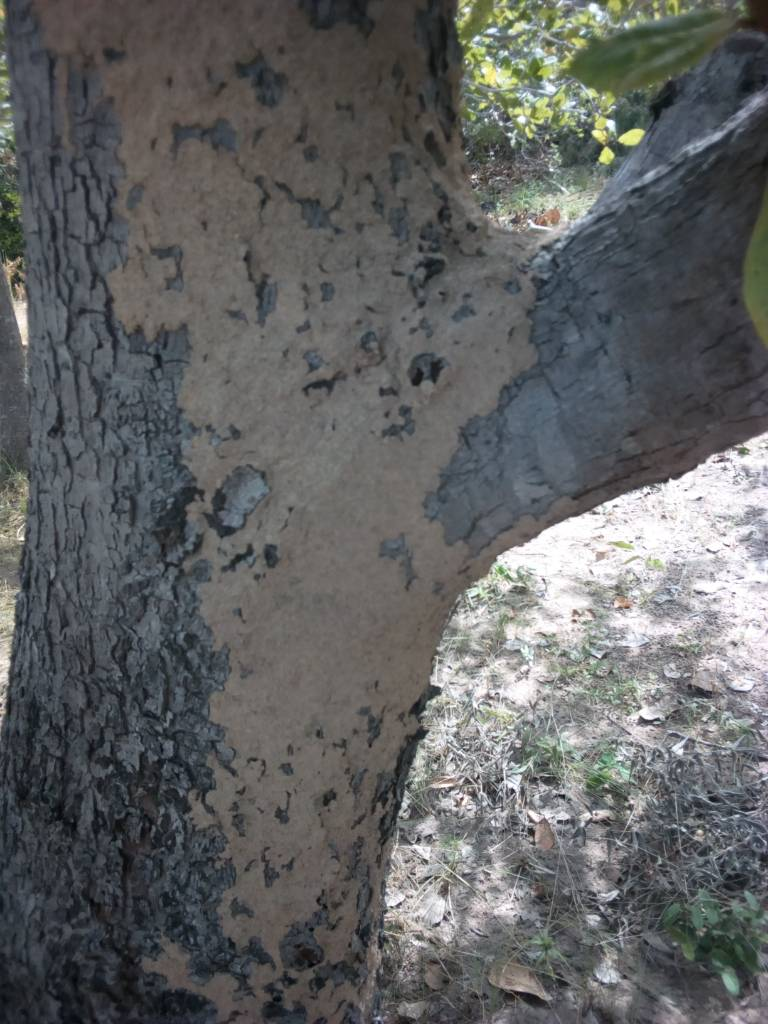Termites: (177, 183, 407, 1010), (147, 1, 454, 161)
